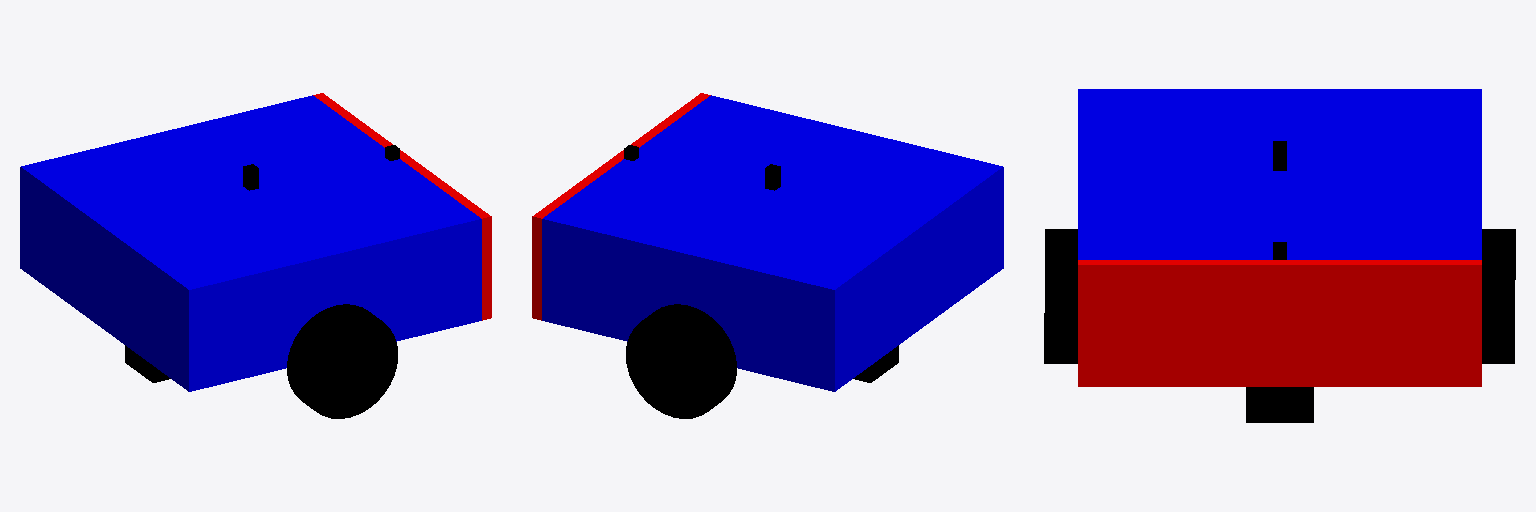
robot.urdf — simple_four_wheel_car:
<?xml version="1.0" ?>
<robot name="simple_four_wheel_car">
  <!--車体リンク-->
  <link name="base_link">
    <visual>
      <origin xyz="0 0 0" rpy="0 0 0"/>
      <geometry>
        <box size="0.3 0.3 0.1"/>
      </geometry>
      <material name="blue">
        <color rgba="0 0 1 1"/>
      </material>
    </visual>
    <collision>
      <origin xyz="0 0 0" rpy="0 0 0"/>
      <geometry>
        <box size="0.3 0.3 0.1"/>
      </geometry>
    </collision>
    <inertial>
        <origin xyz="0 0 0" rpy="0 0 0" />
        <mass value="10.0" />
        <inertia ixx="0.000034533333" 
            ixy="0"  ixz="0"
            iyx="0"  iyy="0.000034533333" 
            iyz="0"
            izx="0"  izy="0"  izz="0.0000648" />
    </inertial>
  </link>

  <!-- 左車輪リンク  -->
  <link name="left_wheel_link">
    <visual>
      <origin xyz="0 0 0" rpy="1.57 0 0 "/>
      <geometry>
        <cylinder length="0.025" radius="0.05"/>
      </geometry>
      <material name="black">
        <color rgba="0 0 0 1"/>
      </material>
    </visual>
    <collision>
      <origin xyz="0 0 0" rpy="1.57 0 0"/>
      <geometry>
        <cylinder length="0.025" radius="0.05"/>
      </geometry>
    </collision>
    <inertial>
        <origin xyz="0 0 0" rpy="0 0 0" />
        <mass value="2.0" />
        <inertia ixx="0.000034533333" 
            ixy="0"  ixz="0"
            iyx="0"  iyy="0.000034533333" 
            iyz="0"
            izx="0"  izy="0"  izz="0.0000648" />
    </inertial>
  </link>

  <!-- 車体リンク <-> 左車輪リンク をつなげるジョイント -->
  <joint name="front_wheel_joint" type="continuous">
    <parent link="base_link"/>
    <child link="left_wheel_link"/>
    <origin xyz="0.0 -0.1625 -0.05" rpy="0 0 0"/>
    <axis xyz="0 1 0"/>
  </joint>


  <!-- 右車輪リンク  -->
  <link name="right_wheel_link">
    <visual>
      <origin xyz="0 0 0" rpy="1.57 0 0 "/>
      <geometry>
        <cylinder length="0.025" radius="0.05"/>
      </geometry>
      <material name="black">
        <color rgba="0 0 0 1"/>
      </material>
    </visual>
    <collision>
      <origin xyz="0 0 0" rpy="1.57 0 0 "/>
      <geometry>
        <cylinder length="0.025" radius="0.05"/>
      </geometry>
    </collision>
    <inertial>
        <origin xyz="0 0 0" rpy="0 0 0" />
        <mass value="2.0" />
        <inertia ixx="0.000034533333" 
            ixy="0"  ixz="0"
            iyx="0"  iyy="0.000034533333" 
            iyz="0"
            izx="0"  izy="0"  izz="0.0000648" />
    </inertial>
  </link>

  <!-- 車体リンク <-> 右車輪リンク をつなげるジョイント -->
  <joint name="right_wheel_joint" type="continuous">
    <parent link="base_link"/>
    <child link="right_wheel_link"/>
    <origin xyz="0.0 0.1625 -0.05" rpy="0 0 0"/>
    <axis xyz="0 1 0"/>
  </joint>


  <!-- 前キャスターリンク  -->
  <link name="front_caster_link">
    <visual>
      <origin xyz="0 0 0" rpy="1.57 0 0 "/>
      <geometry>
        <box size="0.05 0.05 0.05"/>
        <!-- <sphere radius="0.025"/> -->
      </geometry>
      <material name="black">
        <color rgba="0 0 0 1"/>
      </material>
    </visual>
    <collision>
      <origin xyz="0 0 0" rpy="1.57 0 0 "/>
      <geometry>
        <box size="0.05 0.05 0.05"/>
        <!-- <sphere radius="0.025"/> -->
      </geometry>
    </collision>
    <inertial>
        <origin xyz="0 0 0" rpy="0 0 0" />
        <mass value="5.0" />
        <inertia ixx="0.000034533333" 
            ixy="0"  ixz="0"
            iyx="0"  iyy="0.000034533333" 
            iyz="0"
            izx="0"  izy="0"  izz="0.0000648" />
    </inertial>
  </link>

  <!-- 前キャスタージョイント  -->
  <joint name="front_caster_joint" type="fixed">
    <parent link="base_link"/>
    <child link="front_caster_link"/>
    <origin xyz="0.09 0.0 -0.075" rpy="0 0 0"/>
    <axis xyz="0 1 0"/>
  </joint>


  <!-- 後キャスターリンク  -->
  <link name="back_caster_link">
    <visual>
      <origin xyz="0 0 0" rpy="1.57 0 0 "/>
      <geometry>
        <box size="0.05 0.05 0.05"/>
        <!-- <sphere radius="0.025"/> -->
      </geometry>
      <material name="black">
        <color rgba="0 0 0 1"/>
      </material>
    </visual>
    <collision>
      <origin xyz="0 0 0" rpy="1.57 0 0 "/>
      <geometry>
        <box size="0.05 0.05 0.05"/>
        <!-- <sphere radius="0.025"/> -->
      </geometry>
    </collision>
    <inertial>
        <origin xyz="0 0 0" rpy="0 0 0" />
        <mass value="5.0" />
        <inertia ixx="0.000034533333" 
            ixy="0"  ixz="0"
            iyx="0"  iyy="0.000034533333" 
            iyz="0"
            izx="0"  izy="0"  izz="0.0000648" />
    </inertial>
  </link>

  <!-- 後キャスタージョイント  -->
  <joint name="back_caster_joint" type="fixed">
    <parent link="base_link"/>
    <child link="back_caster_link"/>
    <origin xyz="-0.09 0.0 -0.075" rpy="0 0 0"/>
    <axis xyz="0 1 0"/>
  </joint>

  <!--バンパー-->
  <link name="bumper_link">
    <visual>
      <origin xyz="0 0 0" rpy="0 0 0 "/>
      <geometry>
        <box size="0.01 0.3 0.1"/>
      </geometry>
      <material name="white">
        <color rgba="1 0 0 1"/>
      </material>
    </visual>
    <collision>
      <origin xyz="0 0 0" rpy="0 0 0 "/>
      <geometry>
        <box size="0.01 0.3 0.1"/>
      </geometry>
    </collision>
    <inertial>
        <origin xyz="0 0 0" rpy="0 0 0" />
        <mass value="0.0001" />
        <inertia ixx="0.000034533333" 
            ixy="0"  ixz="0"
            iyx="0"  iyy="0.000034533333" 
            iyz="0"
            izx="0"  izy="0"  izz="0.0000648" />
    </inertial>
  </link>

  <!--バンパージョイント-->
  <joint name="bumper_joint" type="fixed">
    <parent link="base_link"/>
    <child link="bumper_link"/>
    <origin xyz="0.155 0.0 0.0" rpy="0 0 0"/>
    <axis xyz="0 0 1"/>
  </joint>



  <!--lidarリンク-->
  <link name="lidar_link">
    <visual>
      <origin xyz="0 0 0" rpy="0 0 0 "/>
      <geometry>
        <box size="0.01 0.01 0.02"/>
      </geometry>
      <material name="black">
        <color rgba="0 0 0 1"/>
      </material>
    </visual>
    <collision>
      <origin xyz="0 0 0" rpy="0 0 0 "/>
      <geometry>
        <box size="0.01 0.01 0.02"/>
      </geometry>
    </collision>
    <inertial>
        <origin xyz="0 0 0" rpy="0 0 0" />
        <mass value="0.0001" />
        <inertia ixx="0.000034533333" 
            ixy="0"  ixz="0"
            iyx="0"  iyy="0.000034533333" 
            iyz="0"
            izx="0"  izy="0"  izz="0.0000648" />
    </inertial>
  </link>

  <!--lidarジョイント-->
  <joint name="lidar_joint" type="fixed">
    <parent link="base_link"/>
    <child link="lidar_link"/>
    <origin xyz="0.0 0.0 0.065" rpy="0 0 0"/>
    <axis xyz="0 0 1"/>
  </joint>



  <!--フロントセンサリンク-->
  <link name="front_sensor_link">
    <visual>
      <origin xyz="0.0 0.0 0.0" rpy="0 0 0"/>
      <geometry>
        <box size="0.01 0.01 0.01"/>
      </geometry>
      <material name="black">
        <color rgba="0 0 0 1"/>
      </material>
    </visual>
    <collision>
      <origin xyz="0.0 0.0 0.0" rpy="0 0 0"/>
      <geometry>
        <box size="0.01 0.01 0.01"/>
      </geometry>
    </collision>
    <inertial>
        <origin xyz="0 0 0" rpy="0 0 0" />
        <mass value="0.0001" />
        <inertia ixx="0.000034533333" 
            ixy="0"  ixz="0"
            iyx="0"  iyy="0.000034533333" 
            iyz="0"
            izx="0"  izy="0"  izz="0.0000648" />
    </inertial>
  </link>

  <!--車体リンク <-> フロントセンサリンク をつなげるジョイント-->
  <joint name="front_sensor_joint" type="fixed">
    <parent link="base_link"/>
    <child link="front_sensor_link"/>
    <origin xyz="0.145 0.0 0.055" rpy="0 0 0"/>
    <axis xyz="0 0 1"/>
  </joint>

  <!--フロントセンサの注視点用の仮想的なリンク-->
  <link name="f_target_position_vertual_link">
    <!--何も設定しないと、質量が1kgになってしまうので、すごく小さな値に設定しておく-->
    <inertial>
        <origin xyz="0 0 0" rpy="0 0 0" />
        <mass value="0.0001" />
        <inertia ixx="0.000034533333" 
            ixy="0"  ixz="0"
            iyx="0"  iyy="0.000034533333" 
            iyz="0"
            izx="0"  izy="0"  izz="0.0000648" />
    </inertial>
  </link>

  <!--フロントセンサリンク から 少し前の位置に 注視点用リンクを設置する-->
  <joint name="front_sensor_target_joint" type="fixed">
    <parent link="front_sensor_link"/>
    <child link="f_target_position_vertual_link"/>
    <origin xyz="0.1 0.0 0.0" rpy="0 0 0"/>
    <axis xyz="0 0 1"/>
  </joint>


  <!--ロボット下部センサリンク-->
  <link name="bottom_sensor_link">
    <visual>
      <origin xyz="0 0 0" rpy="0 0 0 "/>
      <geometry>
        <box size="0.01 0.01 0.01"/>
      </geometry>
      <material name="black">
        <color rgba="0 0 0 1"/>
      </material>
    </visual>
    <collision>
      <origin xyz="0 0 0" rpy="0 0 0 "/>
      <geometry>
        <box size="0.01 0.01 0.01"/>
      </geometry>
    </collision>
    <inertial>
        <origin xyz="0 0 0" rpy="0 0 0" />
        <mass value="0.0001" />
        <inertia ixx="0.000034533333" 
            ixy="0"  ixz="0"
            iyx="0"  iyy="0.000034533333" 
            iyz="0"
            izx="0"  izy="0"  izz="0.0000648" />
    </inertial>
  </link>

  <!--ロボット下部センサジョイント-->
  <joint name="bottom_sensor_joint" type="fixed">
    <parent link="base_link"/>
    <child link="bottom_sensor_link"/>
    <origin xyz="0.145 0.0 -0.06" rpy="0 0 0"/>
    <axis xyz="0 0 1"/>
  </joint>

    <!--フロントセンサの注視点用の仮想的なリンク-->
  <link name="b_target_position_vertual_link">
    <!--何も設定しないと、質量が1kgになってしまうので、すごく小さな値に設定しておく-->
    <inertial>
        <origin xyz="0 0 0" rpy="0 0 0" />
        <mass value="0.0001" />
        <inertia ixx="0.000034533333" 
            ixy="0"  ixz="0"
            iyx="0"  iyy="0.000034533333" 
            iyz="0"
            izx="0"  izy="0"  izz="0.0000648" />
    </inertial>
  </link>

  <!--フロントセンサリンク から 少し前の位置に 注視点用リンクを設置する-->
  <joint name="bottom_sensor_target_joint" type="fixed">
    <parent link="bottom_sensor_link"/>
    <child link="b_target_position_vertual_link"/>
    <origin xyz="0.0 0.0 -0.01" rpy="0 0 0"/>
    <axis xyz="0 0 1"/>
  </joint>
</robot>

--- What the picture shows (computed from the rendered views, not written in the file) ---
Views: 3 orthographic renders of the robot side by side, from view 1: azimuth 30°, elevation 25°; view 2: azimuth 150°, elevation 25°; view 3: azimuth 270°, elevation 25°.
Model simple_four_wheel_car with 11 links and 10 joints (2 continuous, 8 fixed), rooted at base_link, posed all joints at 0.
Visible links, largest first — view 1: base_link, left_wheel_link, bumper_link, back_caster_link; view 2: base_link, right_wheel_link, bumper_link, back_caster_link; view 3: base_link, bumper_link, left_wheel_link, right_wheel_link, front_caster_link.
Link boxes in pixels (left/top/right/bottom): base_link: left=20, top=95, right=481, bottom=391; left_wheel_link: left=287, top=304, right=397, bottom=418; bumper_link: left=313, top=93, right=491, bottom=320; back_caster_link: left=125, top=345, right=170, bottom=382; base_link: left=542, top=95, right=1003, bottom=391; right_wheel_link: left=626, top=304, right=736, bottom=418; bumper_link: left=532, top=93, right=710, bottom=320; back_caster_link: left=853, top=345, right=898, bottom=382; base_link: left=1078, top=89, right=1481, bottom=259; bumper_link: left=1078, top=260, right=1481, bottom=386; left_wheel_link: left=1044, top=229, right=1077, bottom=363; right_wheel_link: left=1482, top=229, right=1515, bottom=363; front_caster_link: left=1246, top=387, right=1313, bottom=422.
Bounding box of the posed robot: 0.31 × 0.3501 × 0.175 m (x, y, z).
Geometry: primitives only (box / cylinder / sphere), no mesh files.
